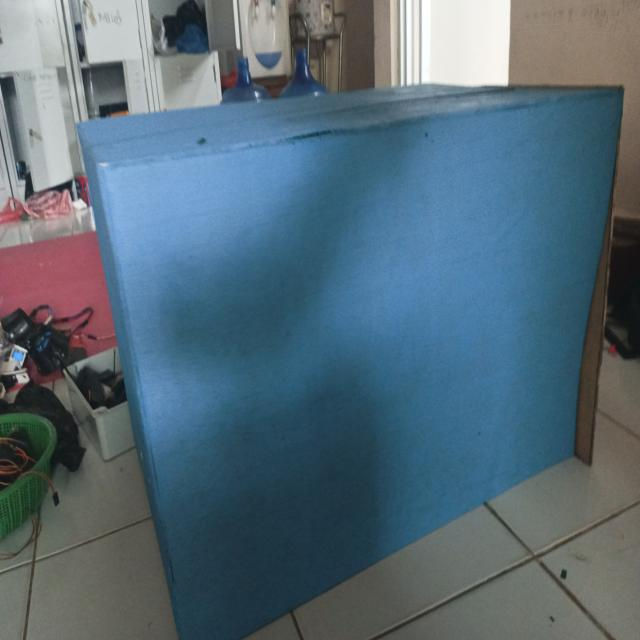blue_box: (34, 67, 640, 640)
